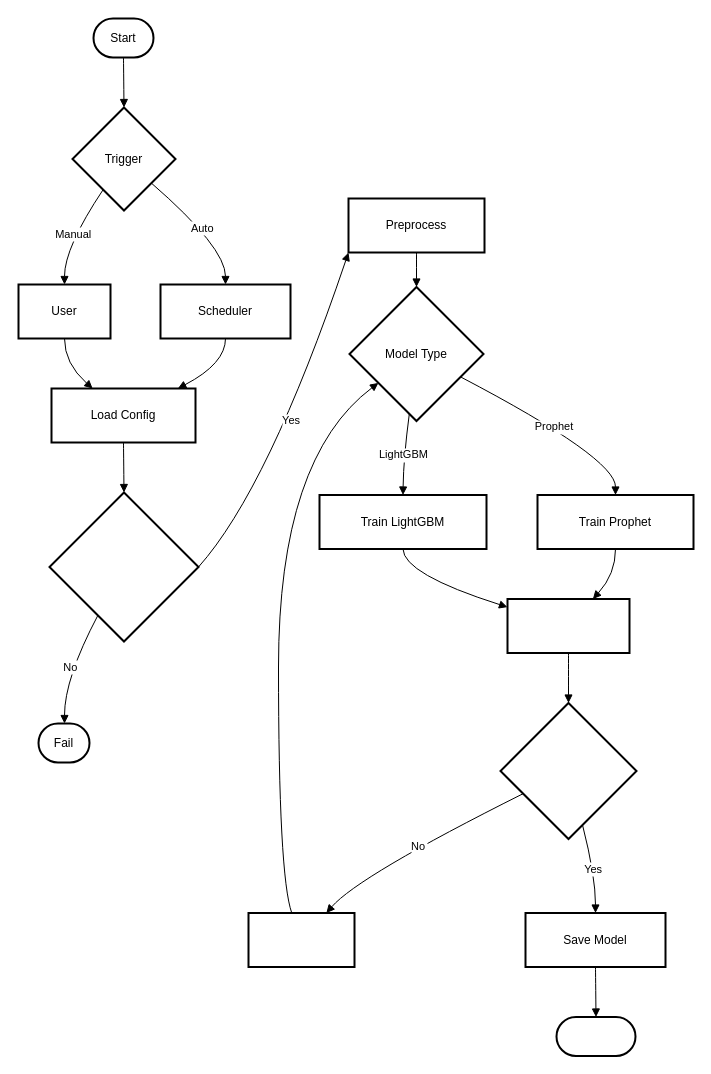
Some shapes in this 711 by 1074 pixel diagram are drawn without their labels. Each missing label, with the centre of its shape:
"Adjust" belongs at point 301,940.
"Enough Data?" belongs at point 123,566.
"Evaluate" belongs at point 568,626.
"Quality OK?" belongs at point 568,771.
"Success" belongs at point 595,1036.
